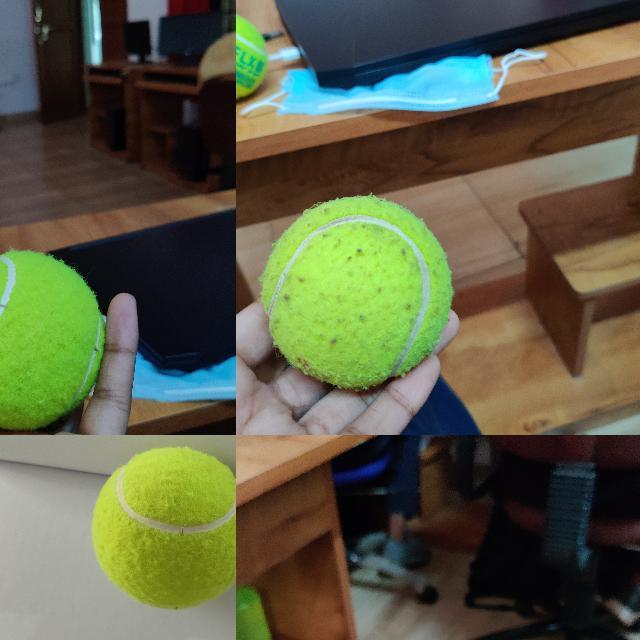tennis-ball: (259, 195, 453, 392), (89, 446, 235, 612), (0, 250, 105, 431), (236, 10, 268, 102)
